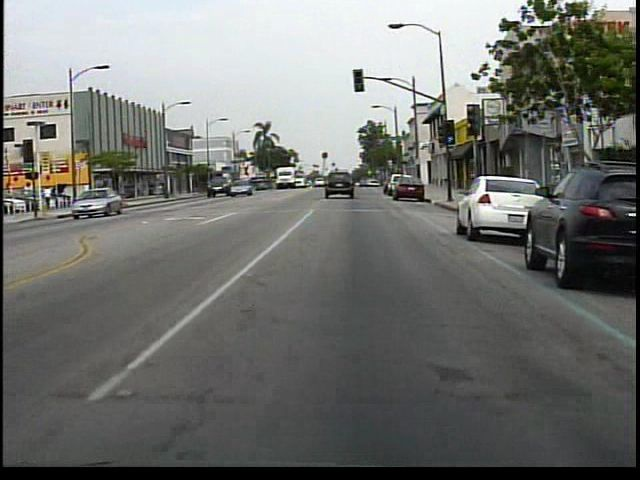person: (43, 182, 56, 212)
